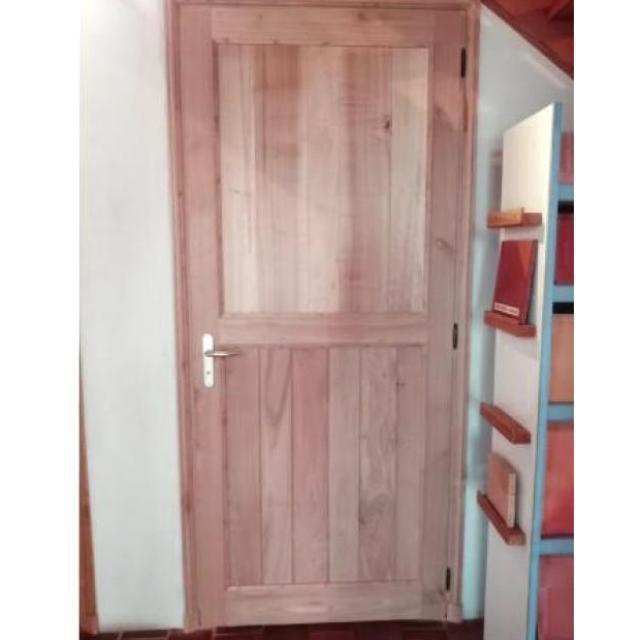door: (164, 0, 475, 630)
